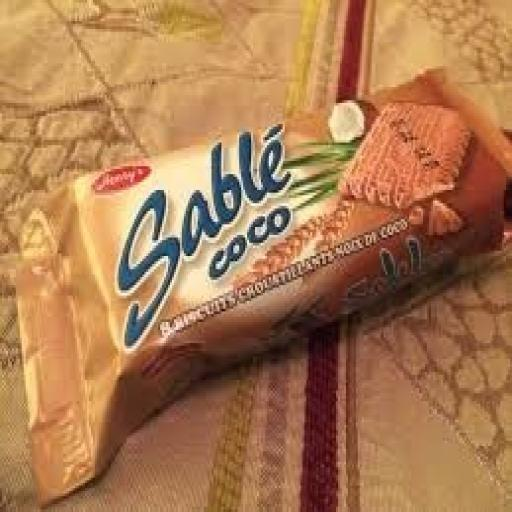sable: (13, 70, 512, 452)
